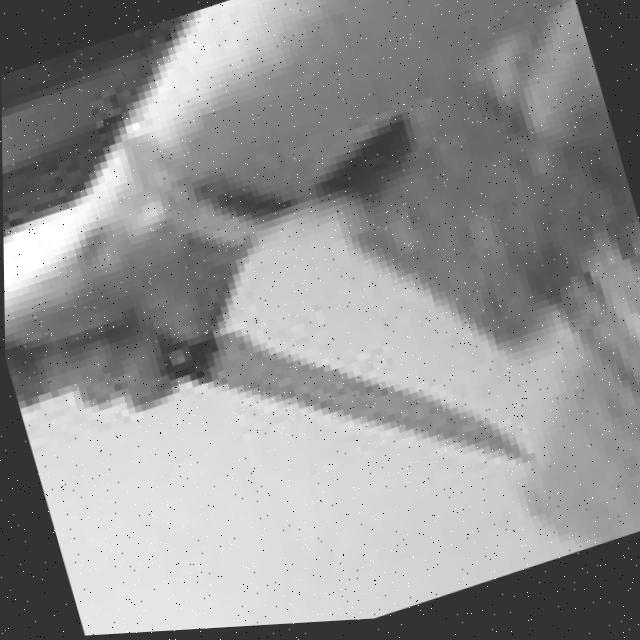knife: (186, 252, 564, 582)
